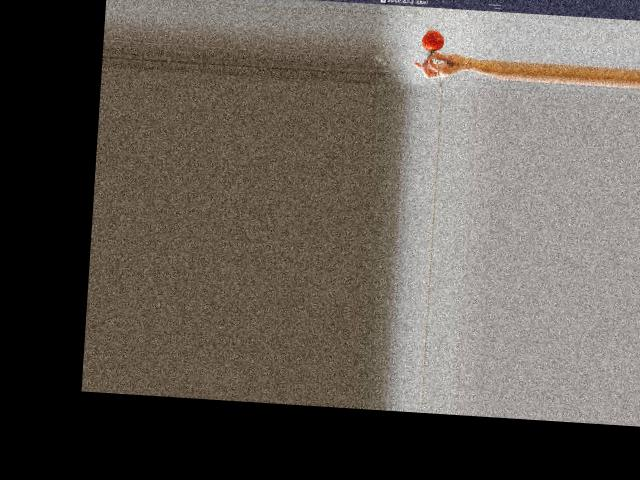tomato: (423, 29, 446, 51)
